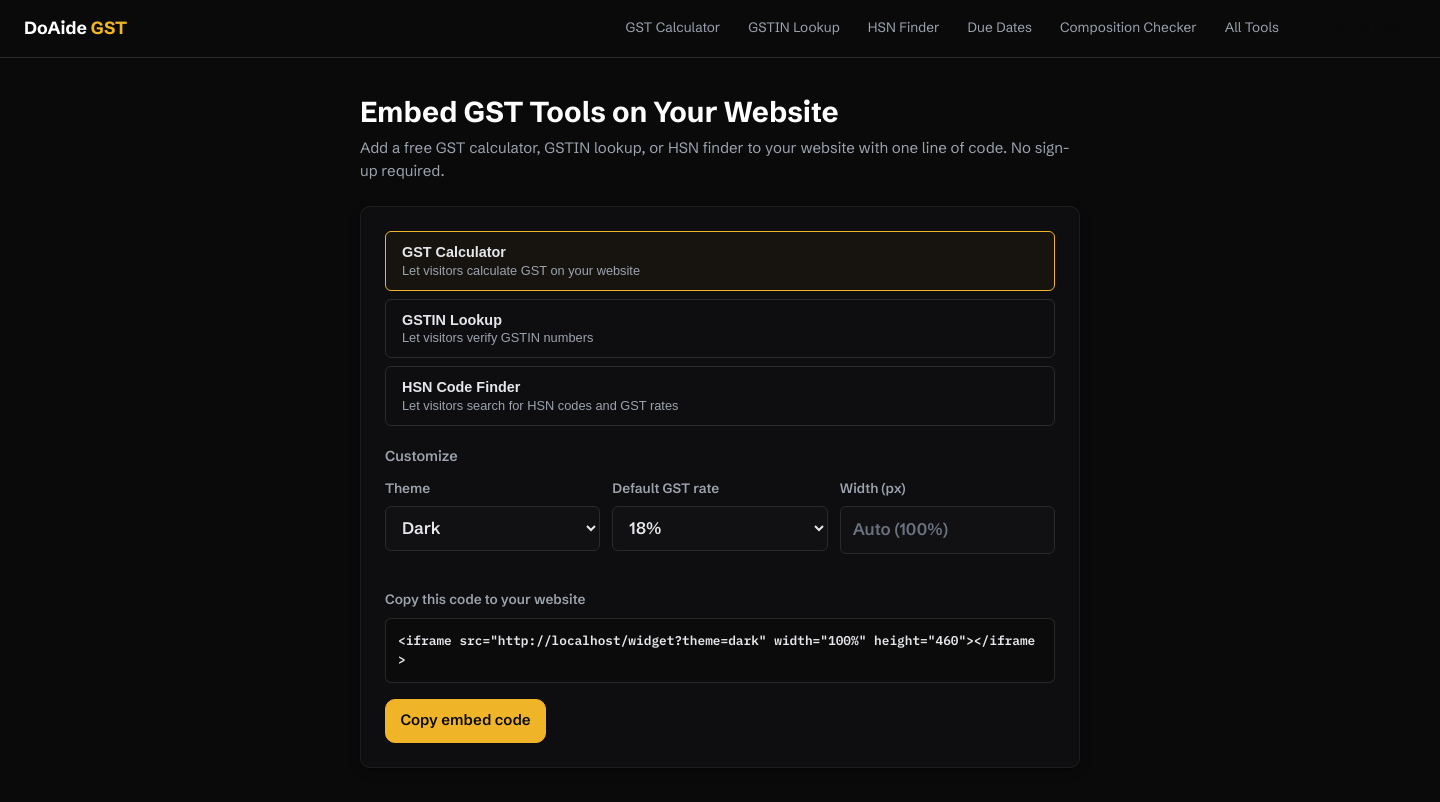
Test case: EmbedPage › copy button copies the embed snippet
This screenshot has width=1440, height=802.
Click the button "Copy embed code" at coordinates (466, 721), box [385,699,546,743]
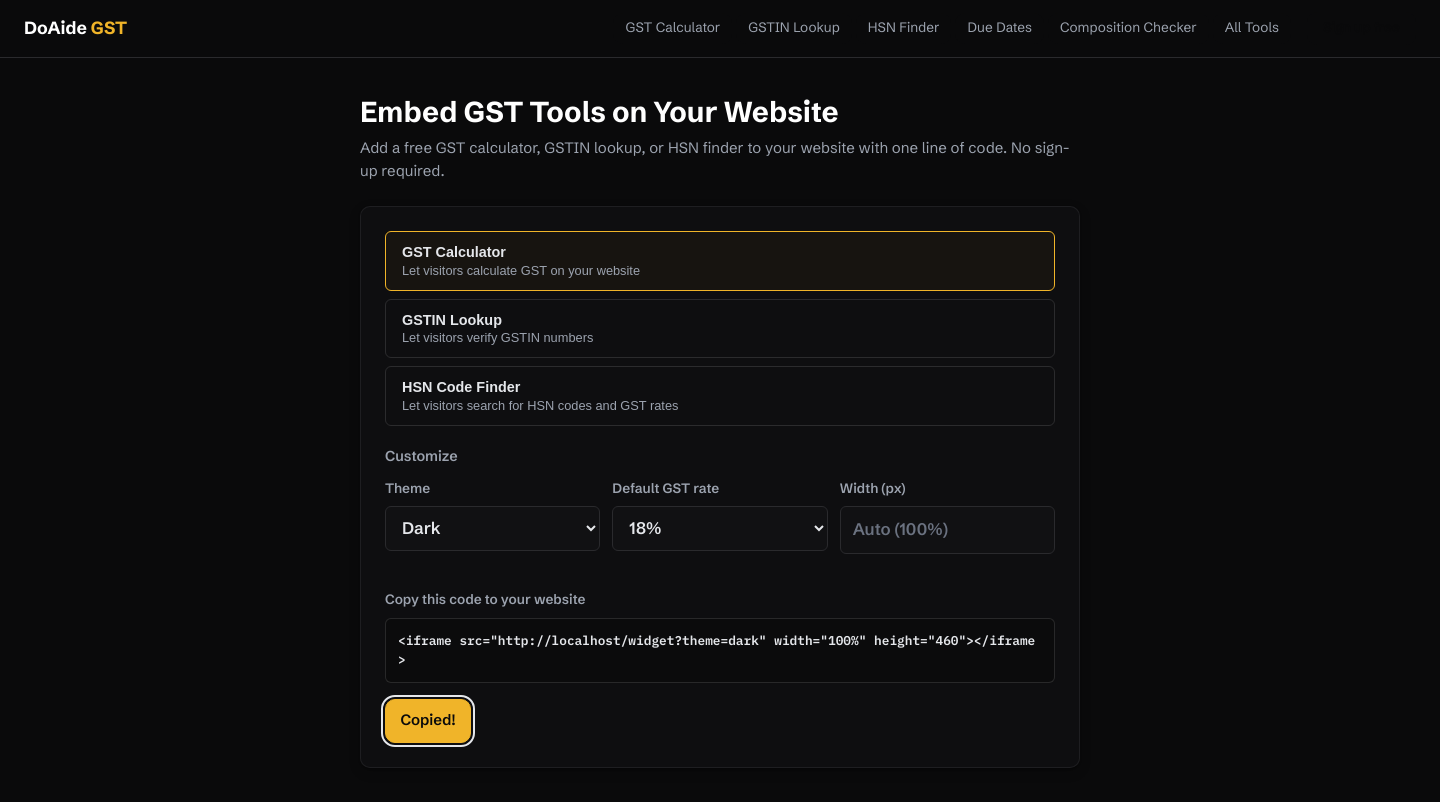
Check: the button "Copied!" is shown, box [385,699,471,743]
